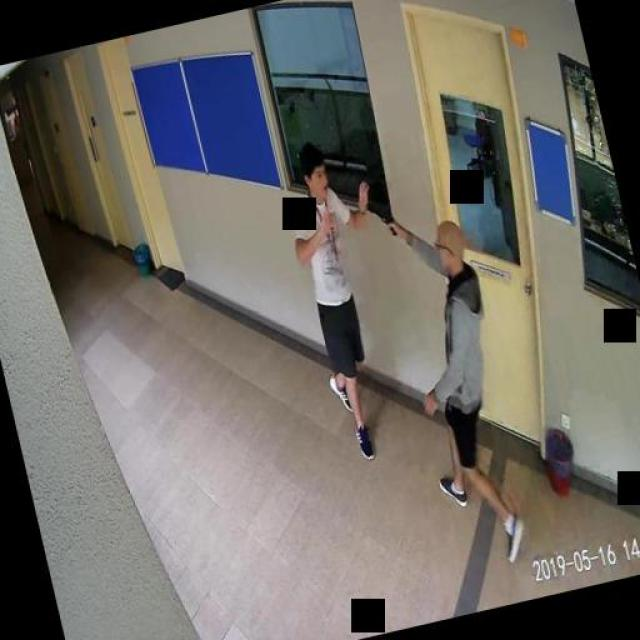gun: (366, 199, 396, 239)
